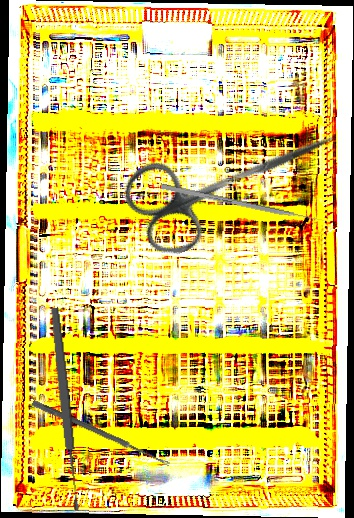Iris Scissors: (116, 90, 352, 265)
Pusher: (160, 183, 328, 225)
Surgical Spoon: (31, 399, 171, 468), (48, 307, 83, 511)
